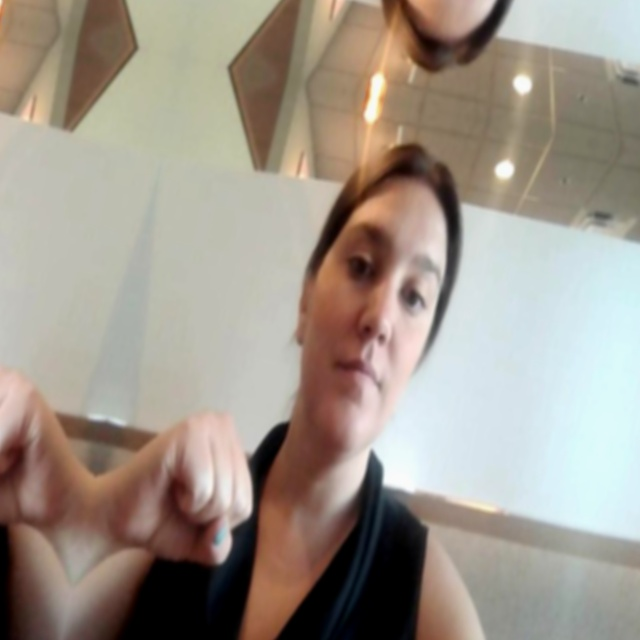Rock: (0, 325, 102, 570)
